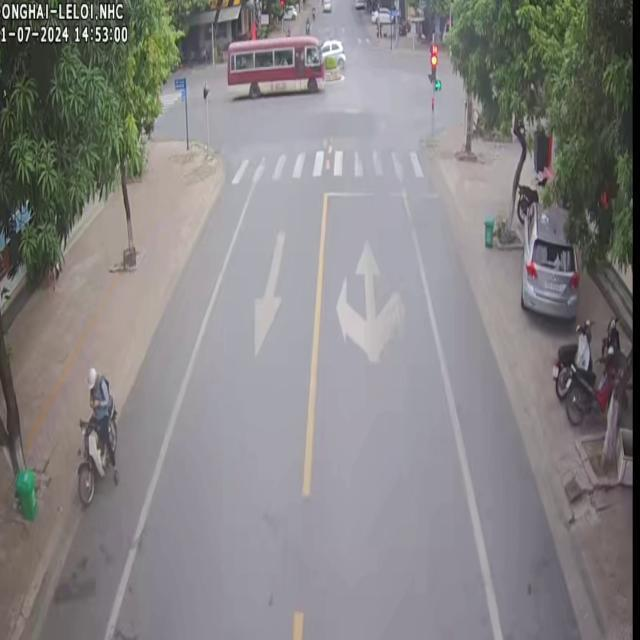car: (519, 200, 578, 318), (226, 34, 323, 96)
motobike: (564, 345, 624, 422), (550, 318, 590, 398), (76, 411, 108, 505), (107, 394, 116, 448)
red_light: (431, 46, 438, 79)
stop_line: (328, 188, 439, 196)
